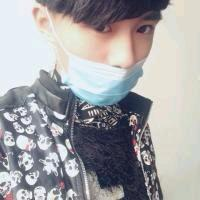face_mask: (57, 0, 161, 104)
